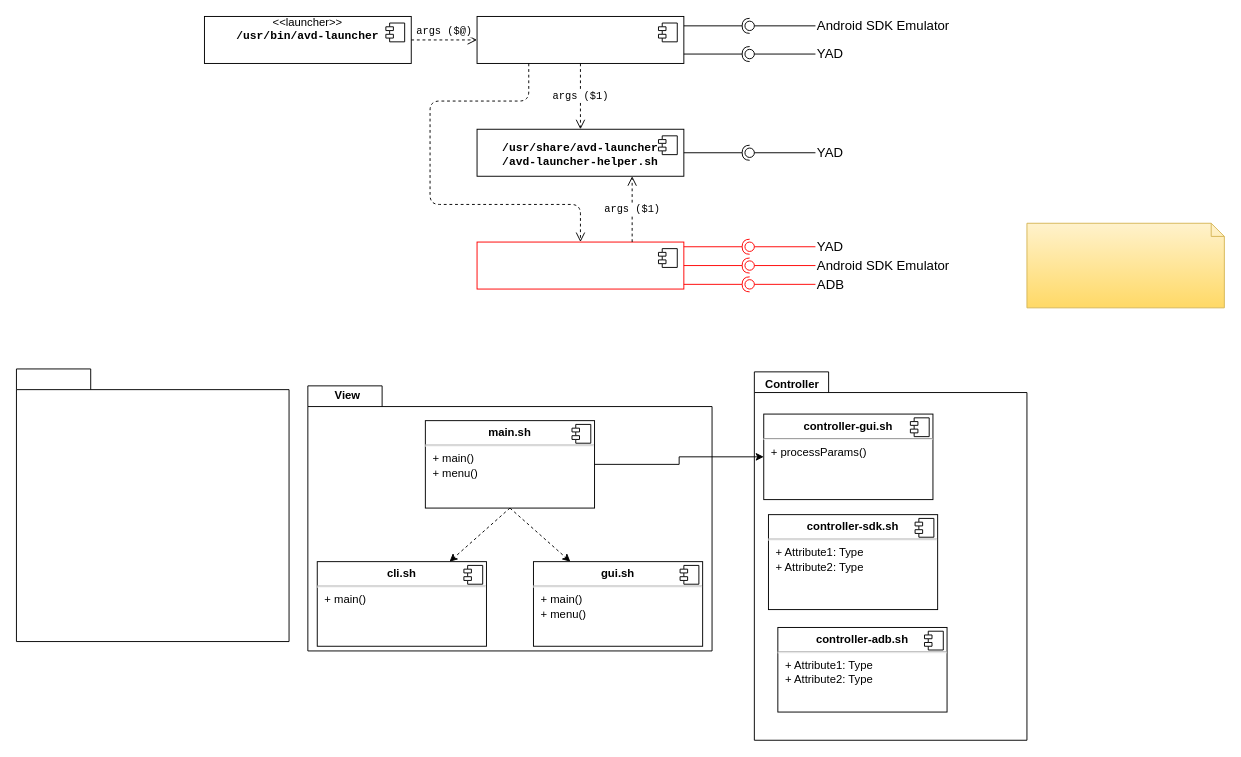
The diagram is 1241 pixels wide and 757 high, and some of its shapes have lost their labels. The box of each missing label's shape, as (x1, y1, x2, y2) in pixels:
/usr/share/avd-launcher /avd-launcher-menuitems.sh: (476, 241, 684, 289)
<<application>> /usr/share/avd-launcher /avd-launcher.sh: (476, 16, 684, 63)
Model: (16, 368, 289, 642)
Nota: Componentes em Vermelho : não implementado completamente: (1026, 222, 1224, 308)
